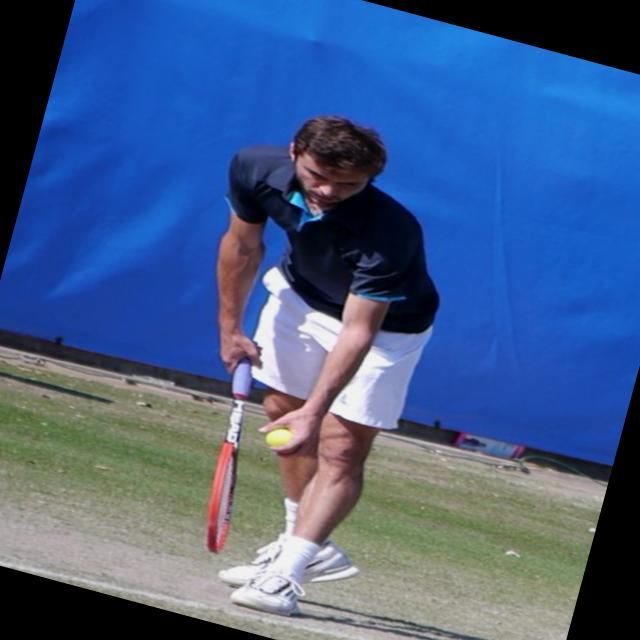Tennis ball: (266, 425, 292, 448)
